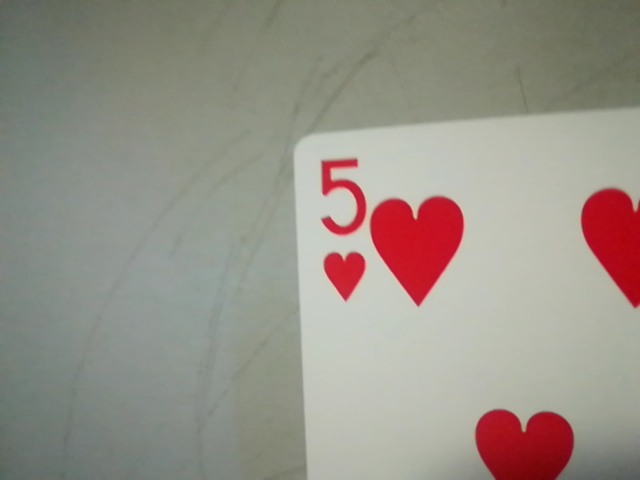hx 5: (304, 143, 373, 307)
